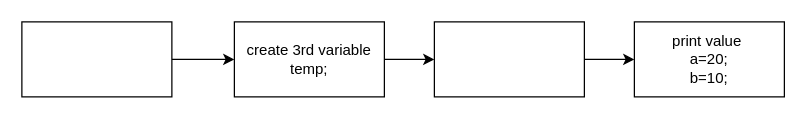
This 806x119 diagram has some shape labels left out. The centre of each missing label's shape, as x and y in pixels:
"temp=a; a=b; b=temp;" goes at pixel 508 59.
"we have two number a=10; b=20;" goes at pixel 96 59.
